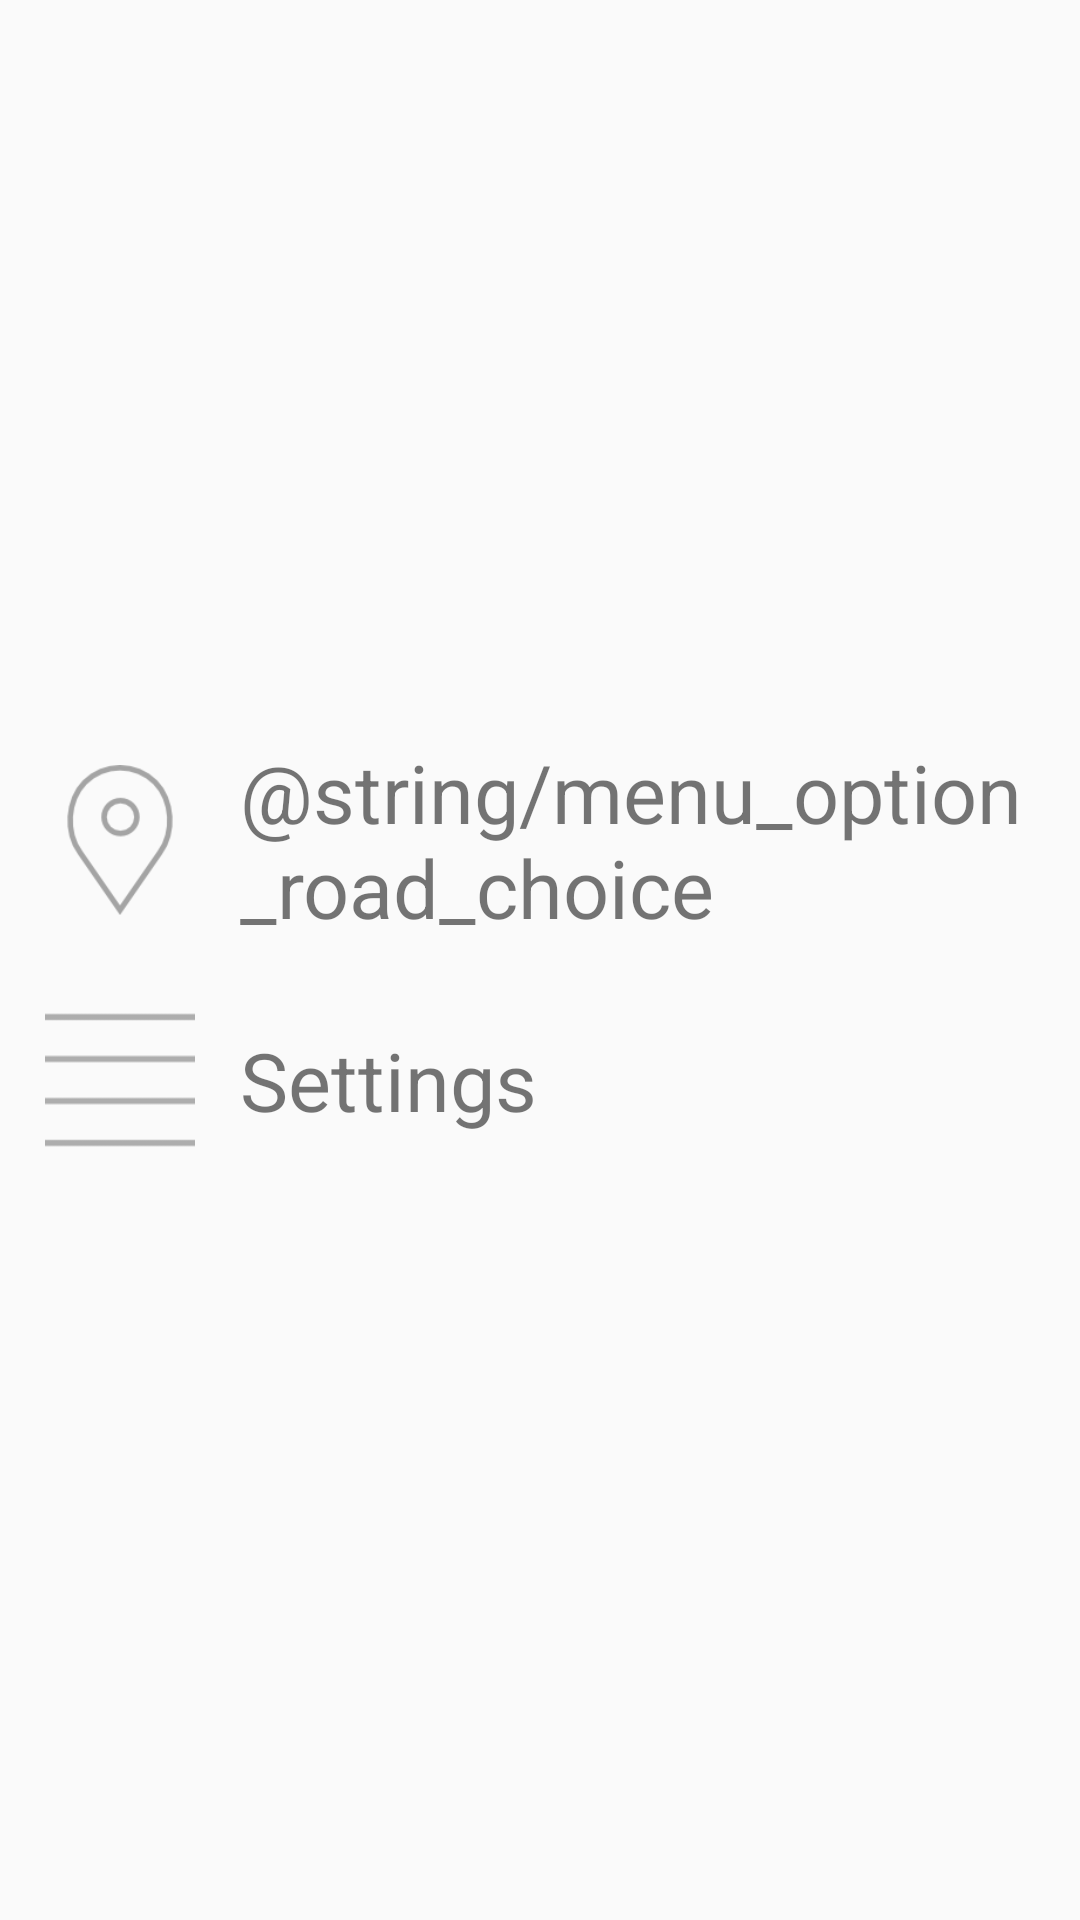

Screen size 1080*1920. Icon name, then its box in pixels as (x1, y1, x2, y2):
Map icon: (67, 765, 173, 915)
